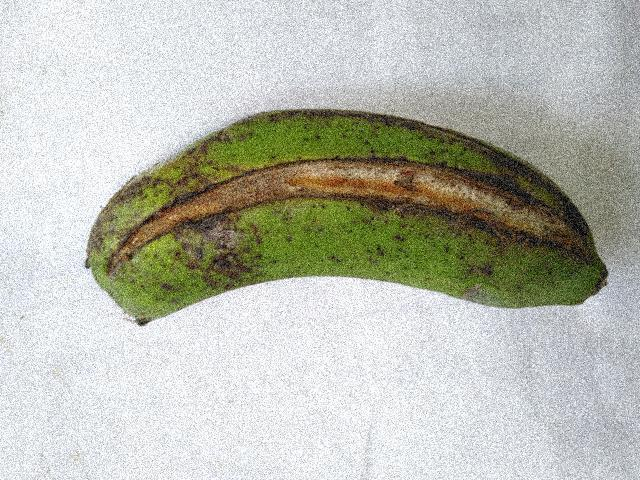rotten: (83, 121, 609, 270)
